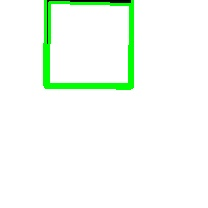line_segment: (44, 0, 134, 89), (47, 2, 131, 85)
